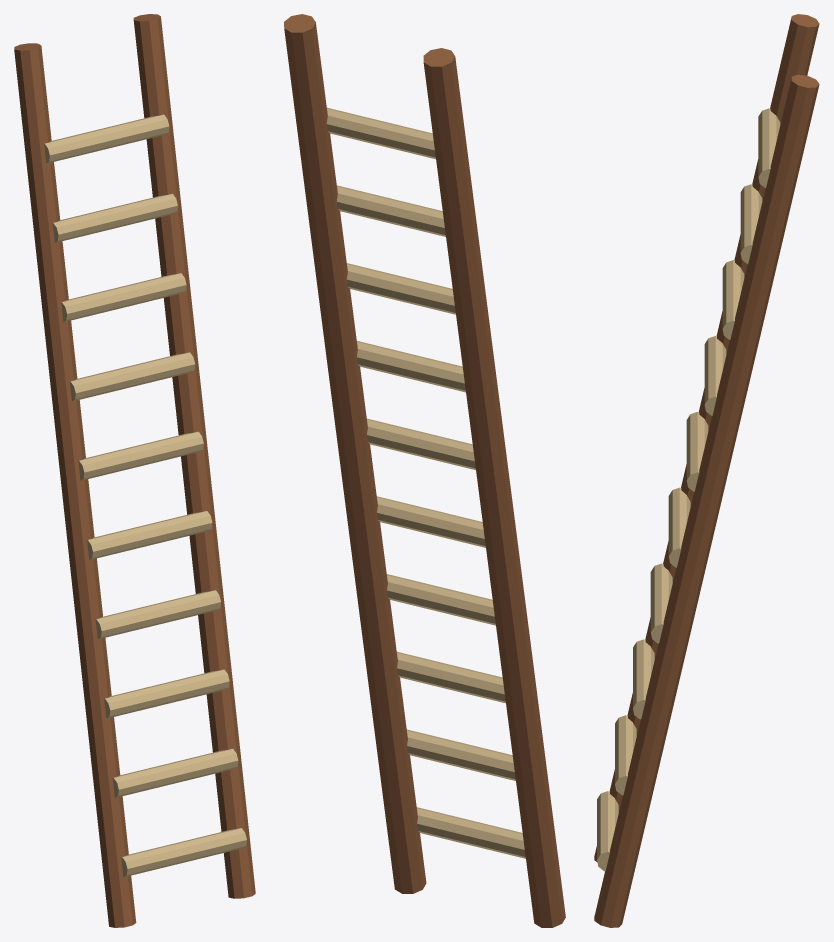
File: 078_bamboo_ladder.glb
3 views of the same model, side by side, from view 1: azimuth 30°, elevation 25°; view 2: azimuth 150°, elevation 25°; view 3: azimuth 270°, elevation 25° (orthographic). The views are drawn at different scales.
Visible parts, largest first — view 1: Bamboo ladder; view 2: Bamboo ladder; view 3: Bamboo ladder.
Boxes of the visible parts, left/top/right/bottom form: Bamboo ladder: left=14, top=14, right=255, bottom=927; Bamboo ladder: left=284, top=14, right=565, bottom=927; Bamboo ladder: left=594, top=14, right=819, bottom=927.
Bounding box in the file's own units: 0.5765 × 3.12 × 0.753.
